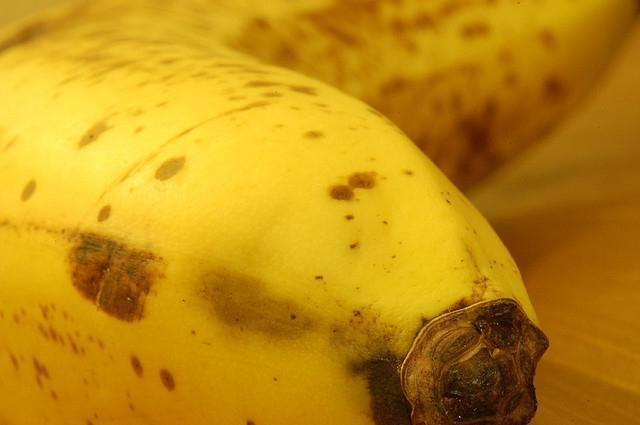banana: (1, 4, 550, 424)
